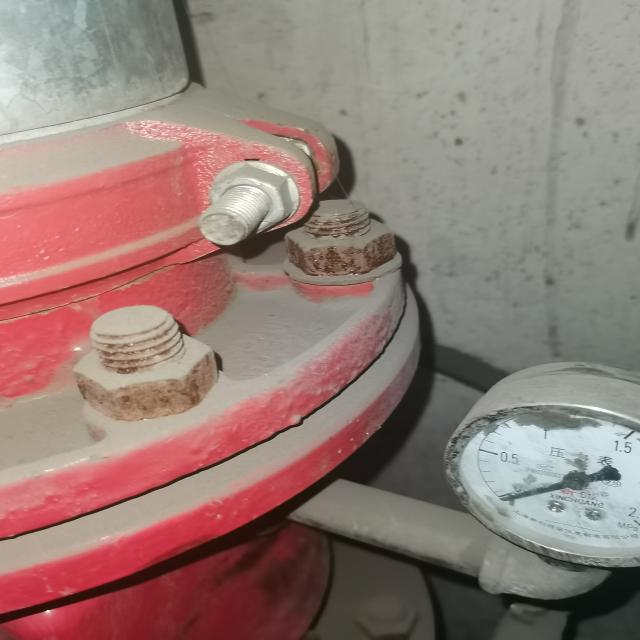blur bolt: (352, 591, 422, 638)
bolt nut: (64, 334, 228, 425), (277, 214, 412, 279), (202, 161, 296, 237)
